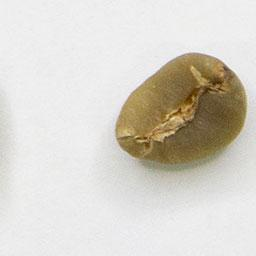premium: (111, 48, 250, 168)
